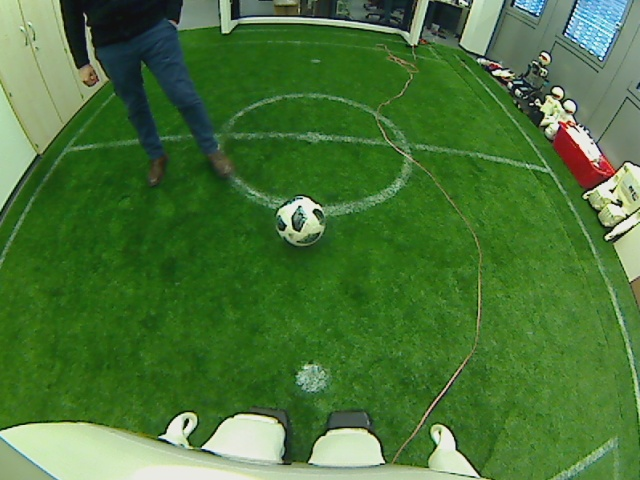ball: (274, 195, 327, 246)
